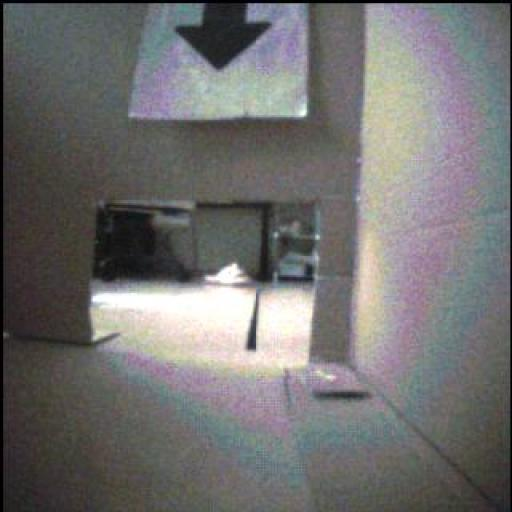arrow: (177, 4, 271, 70)
